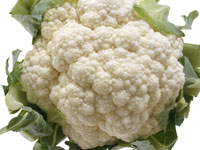cauliflower: (20, 1, 186, 149)
